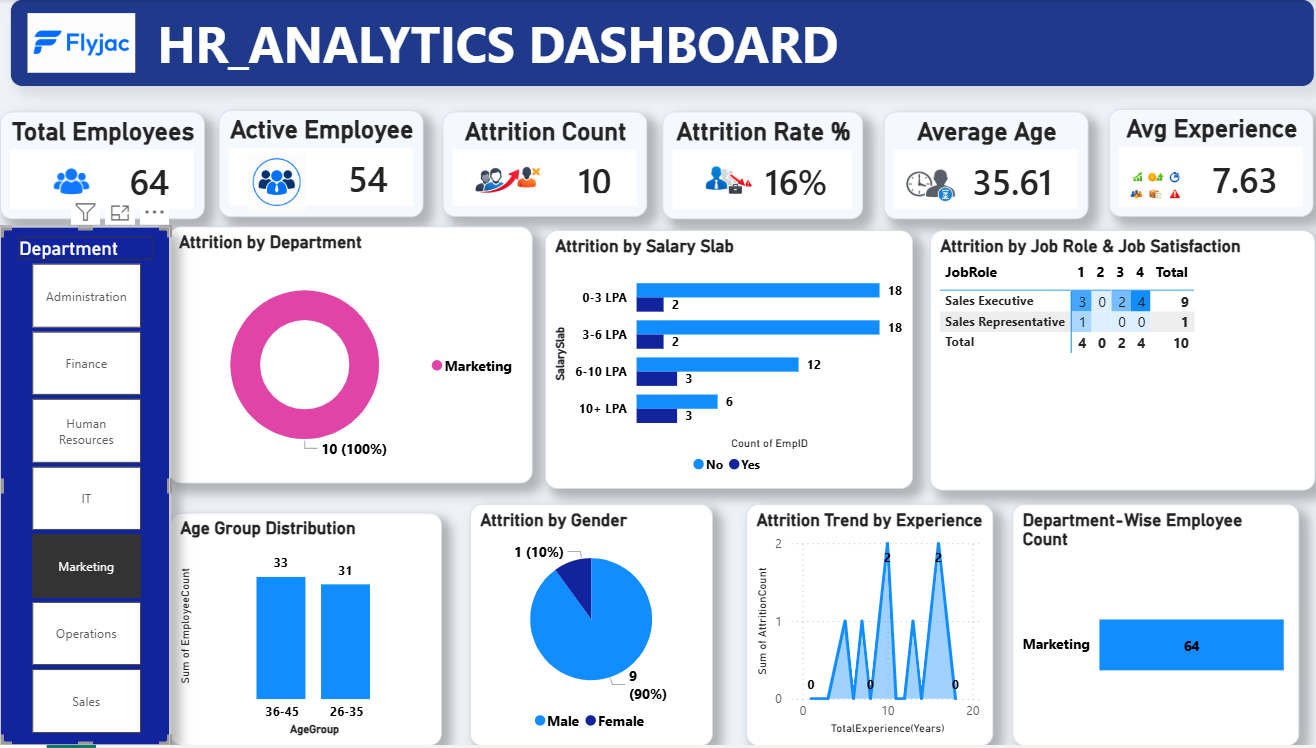

Layout of this report page (visuals, bound fields, positions):
{"tool":"powerbi","page":{"name":"Page 1","canvas":[1280,720],"ordinal":0},"visuals":[{"type":"textbox","box":[10,0,1259,85],"z":0},{"type":"image","box":[26.1,0,104.3,85.1],"z":1000},{"type":"cardVisual","title":"Total Employees","fields":{"Data":["CountNonNull(HR_Analytics.EmpID)"]},"box":[0,108.4,197.6,104.3],"z":2000},{"type":"cardVisual","title":"Attrition Count","fields":{"Data":["Sum(HR_Analytics.AttritionCount)"]},"box":[426.8,108.4,197.6,101.5],"z":3000},{"type":"cardVisual","title":"Attrition Rate %","fields":{"Data":["HR_Analytics.Attrition Rate %"]},"box":[639.5,108.4,193.5,104.3],"z":4000},{"type":"cardVisual","title":"Average Age","fields":{"Data":["Avg(HR_Analytics.Age)"]},"box":[853.5,108.4,197.6,104.3],"z":5000},{"type":"cardVisual","title":"Avg Experience","fields":{"Data":["Avg(HR_Analytics.YearsatCompany)"]},"box":[1070.3,105.7,197.6,104.3],"z":6000},{"type":"cardVisual","title":"Active Employee","fields":{"Data":["CountNonNull(HR_Analytics.EmployeeCount)"]},"box":[211.3,107,197.6,102.9],"z":7000},{"type":"image","box":[0,135.8,89.2,87.8],"z":8000},{"type":"image","box":[220.9,145.5,56.3,64.5],"z":9000},{"type":"image","box":[441.9,135.8,72.7,76.8],"z":10000},{"type":"image","box":[657.3,138.6,63.1,71.4],"z":11000},{"type":"image","box":[864.5,140,65.9,79.6],"z":12000},{"type":"image","box":[1082.7,145.5,65.9,68.6],"z":13000},{"type":"donutChart","title":"Attrition by Department","fields":{"Category":["HR_Analytics.Department"],"Y":["Sum(HR_Analytics.AttritionCount)"]},"box":[163.3,219.6,351.3,248.4],"z":14000},{"type":"clusteredBarChart","title":"Attrition by Salary Slab","fields":{"Category":["HR_Analytics.SalarySlab"],"Y":["CountNonNull(HR_Analytics.EmpID)"],"Series":["HR_Analytics.Attrition"]},"box":[525.6,223.7,355.4,249.7],"z":15000},{"type":"pivotTable","title":"Attrition by Job Role & Job Satisfaction","fields":{"Rows":["HR_Analytics.JobRole"],"Values":["Sum(HR_Analytics.AttritionCount)"],"Columns":["HR_Analytics.JobSatisfaction"]},"box":[897.4,223.7,371.9,251.1],"z":16000},{"type":"columnChart","title":"Age Group Distribution","fields":{"Category":["HR_Analytics.AgeGroup"],"Y":["Sum(HR_Analytics.EmployeeCount)"]},"box":[164.7,495.4,262.1,225],"z":17000},{"type":"pieChart","title":"Attrition by Gender","fields":{"Category":["HR_Analytics.Gender"],"Y":["Sum(HR_Analytics.AttritionCount)"]},"box":[454.2,487.1,234.6,233.3],"z":18000},{"type":"areaChart","title":"Attrition Trend by Experience","fields":{"Category":["HR_Analytics.TotalExperience(Years)"],"Y":["Sum(HR_Analytics.AttritionCount)"]},"box":[720.4,487.1,238.8,233.3],"z":19000},{"type":"funnel","title":"Department-Wise Employee Count","fields":{"Category":["HR_Analytics.Department"],"Y":["CountNonNull(HR_Analytics.EmpID)"]},"box":[977,487.1,277.2,233.3],"z":20000},{"type":"slicer","fields":{"Values":["HR_Analytics.Department"]},"box":[0,219.6,164.7,500.9],"z":22000}]}

Visuals, with their boxes in screenshot pixels (x1, y1, x2, y2), scaled from the page's 1280x720 canvas onto the 1316x748 screenshot:
textbox: pyautogui.locateOnScreen(10, 0, 1305, 88)
image: pyautogui.locateOnScreen(27, 0, 134, 88)
"Total Employees" cardVisual: pyautogui.locateOnScreen(0, 113, 203, 221)
"Attrition Count" cardVisual: pyautogui.locateOnScreen(439, 113, 642, 218)
"Attrition Rate %" cardVisual: pyautogui.locateOnScreen(657, 113, 856, 221)
"Average Age" cardVisual: pyautogui.locateOnScreen(878, 113, 1081, 221)
"Avg Experience" cardVisual: pyautogui.locateOnScreen(1100, 110, 1304, 218)
"Active Employee" cardVisual: pyautogui.locateOnScreen(217, 111, 420, 218)
image: pyautogui.locateOnScreen(0, 141, 92, 232)
image: pyautogui.locateOnScreen(227, 151, 285, 218)
image: pyautogui.locateOnScreen(454, 141, 529, 221)
image: pyautogui.locateOnScreen(676, 144, 741, 218)
image: pyautogui.locateOnScreen(889, 145, 957, 228)
image: pyautogui.locateOnScreen(1113, 151, 1181, 222)
"Attrition by Department" donutChart: pyautogui.locateOnScreen(168, 228, 529, 486)
"Attrition by Salary Slab" clusteredBarChart: pyautogui.locateOnScreen(540, 232, 906, 492)
"Attrition by Job Role & Job Satisfaction" pivotTable: pyautogui.locateOnScreen(923, 232, 1305, 493)
"Age Group Distribution" columnChart: pyautogui.locateOnScreen(169, 515, 439, 747)
"Attrition by Gender" pieChart: pyautogui.locateOnScreen(467, 506, 708, 747)
"Attrition Trend by Experience" areaChart: pyautogui.locateOnScreen(741, 506, 986, 747)
"Department-Wise Employee Count" funnel: pyautogui.locateOnScreen(1004, 506, 1289, 747)
slicer - HR_Analytics.Department: pyautogui.locateOnScreen(0, 228, 169, 747)
